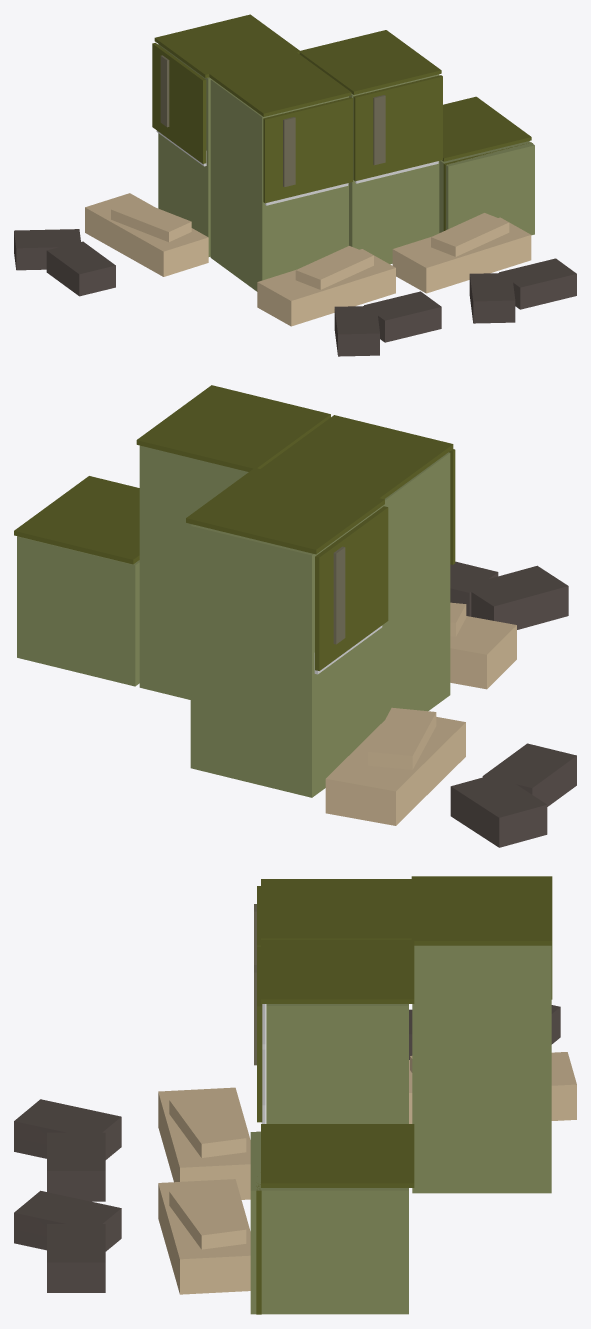
The model's file is SM_HescoRemate_v4_Red_e1_Danado_LOD1.fbx.
3 renders of one model, top to bottom at view 1: azimuth 30°, elevation 25°; view 2: azimuth 150°, elevation 25°; view 3: azimuth 270°, elevation 25°, orthographic. The views are drawn at different scales.
Parts seen in each view (by area): view 1: SM_hesco_piezas_v37_LOD1; view 2: SM_hesco_piezas_v37_LOD1; view 3: SM_hesco_piezas_v37_LOD1.
Part boxes in pixels (x1,y1,x2,y2): SM_hesco_piezas_v37_LOD1: [14, 14, 576, 356]; SM_hesco_piezas_v37_LOD1: [14, 385, 576, 847]; SM_hesco_piezas_v37_LOD1: [14, 876, 576, 1314].
Bounding box in the file's own units: 5.25 × 2.16 × 4.33.
